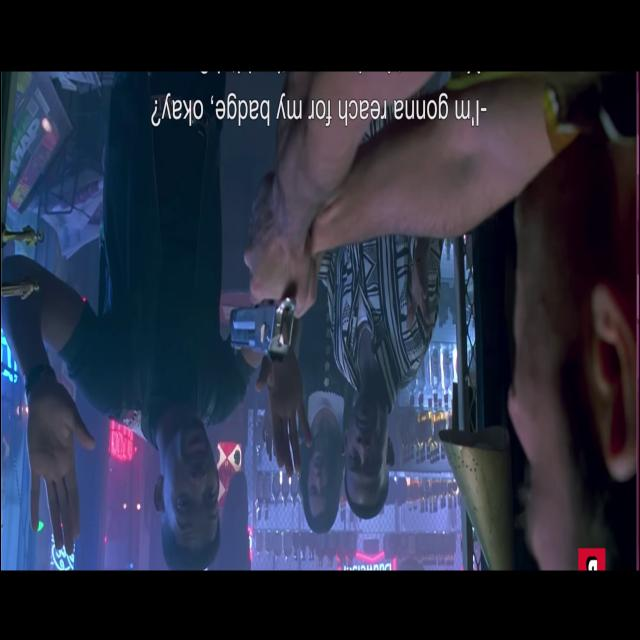weapons: (220, 216, 316, 384)
